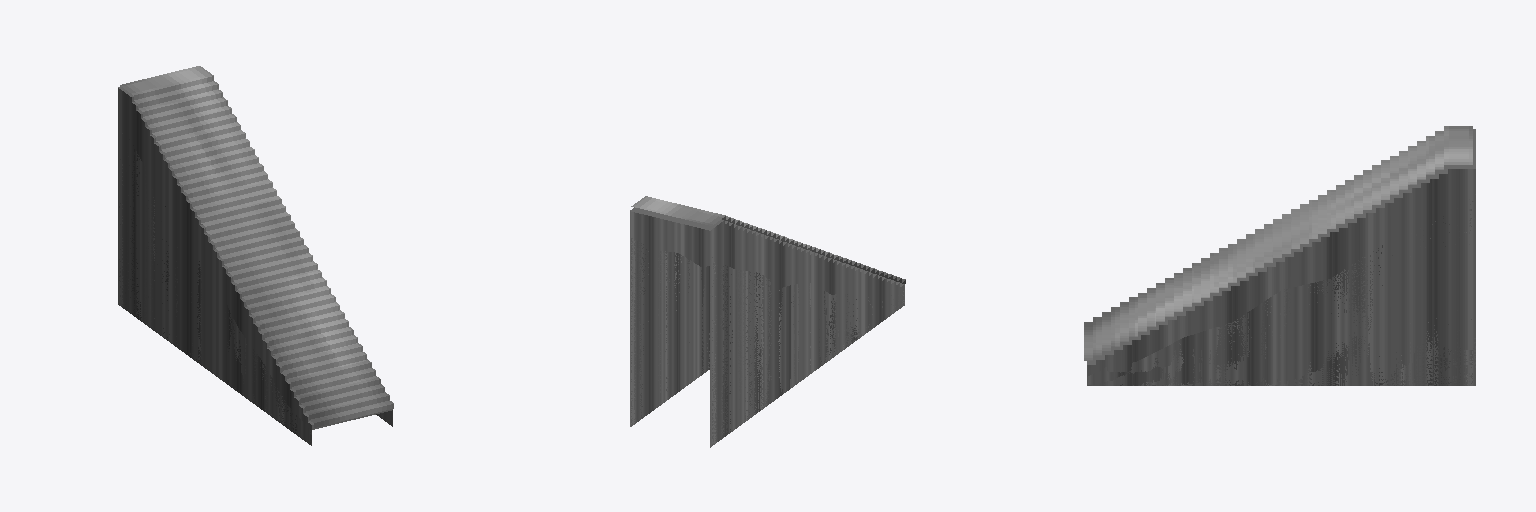
The picture shows the model from 3 angles: view 1: azimuth 30°, elevation 25°; view 2: azimuth 150°, elevation 25°; view 3: azimuth 270°, elevation 25°; orthographic projection.
Visible parts, largest first — view 1: n0b2, n1b0_n1b0_n1b0.001, n2b1; view 2: n1b0_n1b0_n1b0.001, n0b2, n2b1; view 3: n1b0_n1b0_n1b0.001, n0b2, n2b1.
Part boxes in pixels (x1,y1,x2,y2): n0b2: (120, 66, 393, 427); n1b0_n1b0_n1b0.001: (118, 88, 392, 445); n2b1: (118, 86, 392, 429); n1b0_n1b0_n1b0.001: (630, 211, 904, 447); n0b2: (631, 196, 905, 283); n2b1: (630, 207, 903, 286); n1b0_n1b0_n1b0.001: (1087, 169, 1475, 385); n0b2: (1084, 126, 1472, 360); n2b1: (1087, 129, 1475, 364).
Bounding box in the file's own units: 0.5171 × 1.35 × 2.18.
Materials: 3 (2 with a texture image).